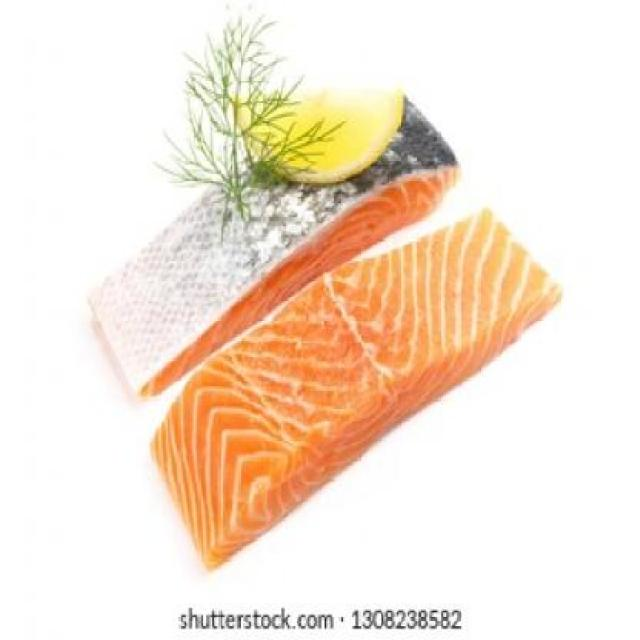salmon: (145, 206, 567, 576), (66, 80, 496, 412)
